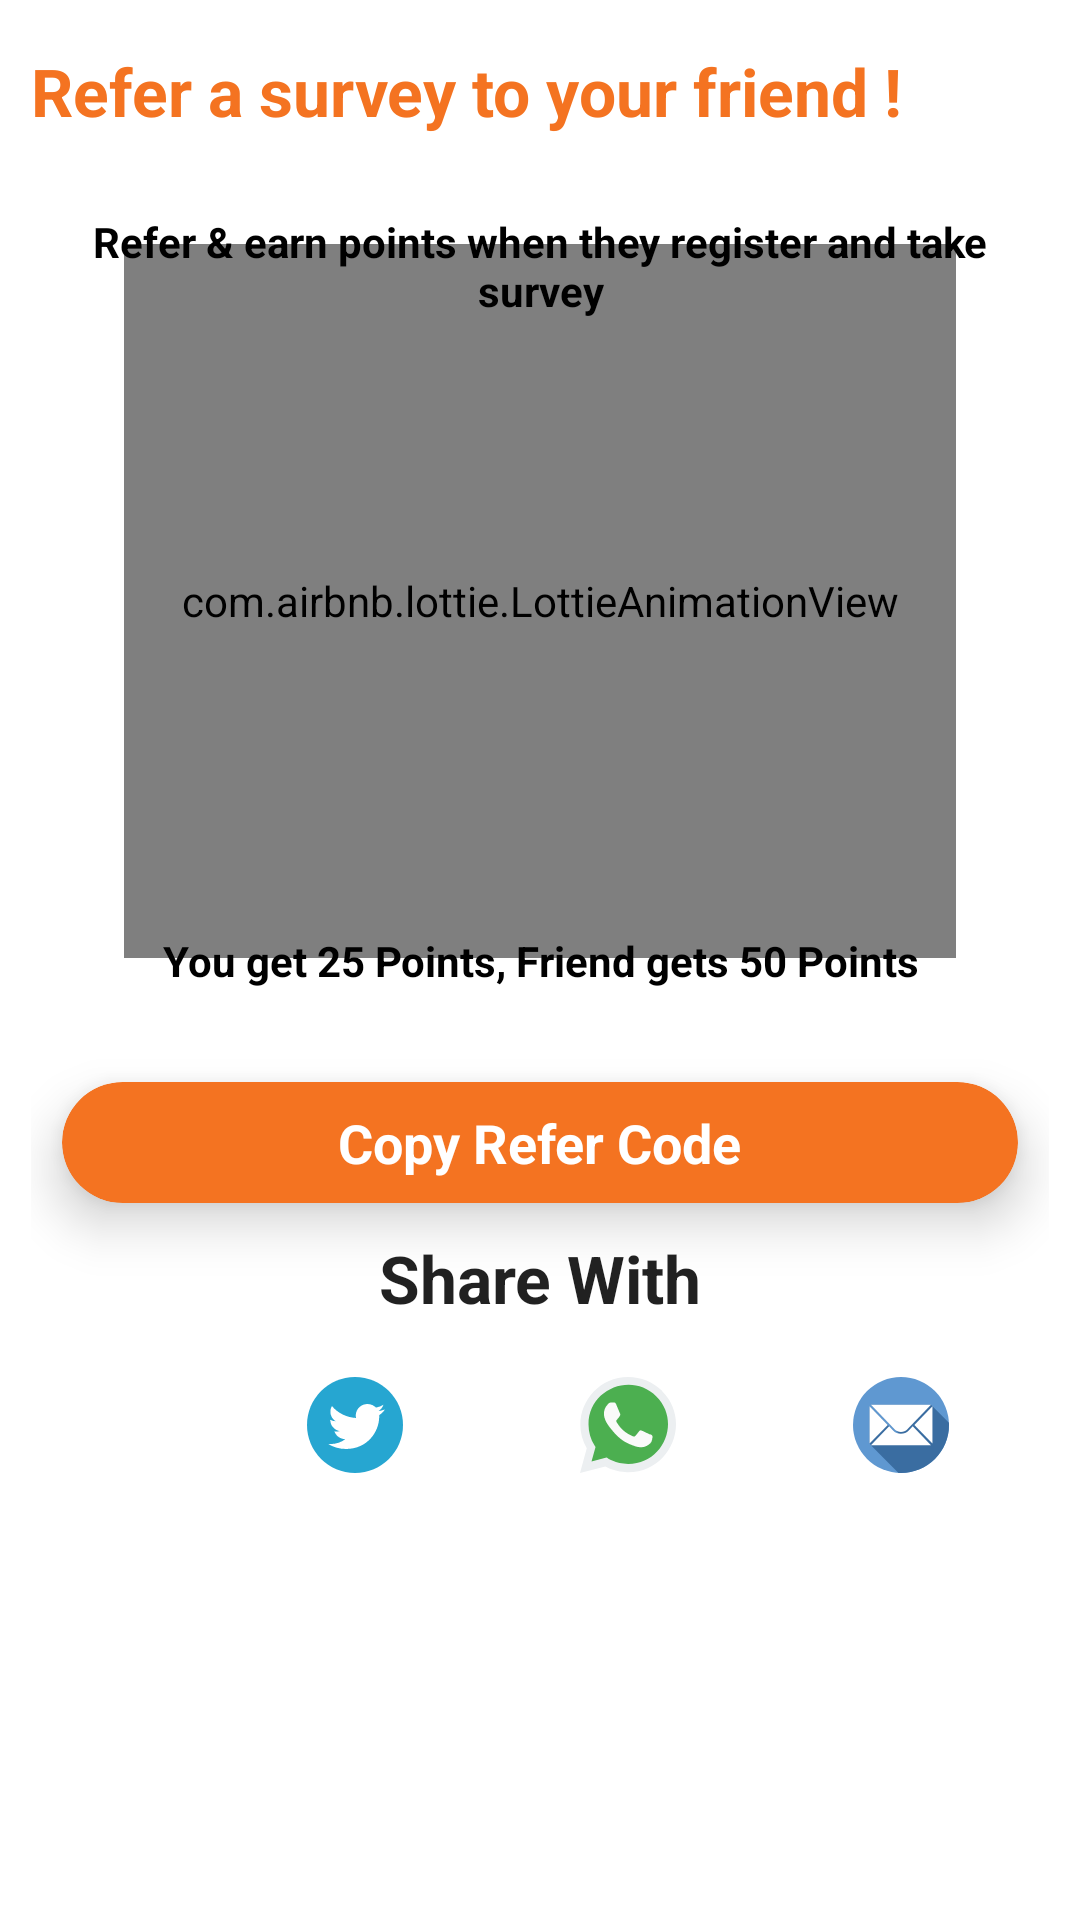

Point at icon controls on the screen. Image size 1080 × 1920, points as point (x, y).
email refer: point (901, 1425)
